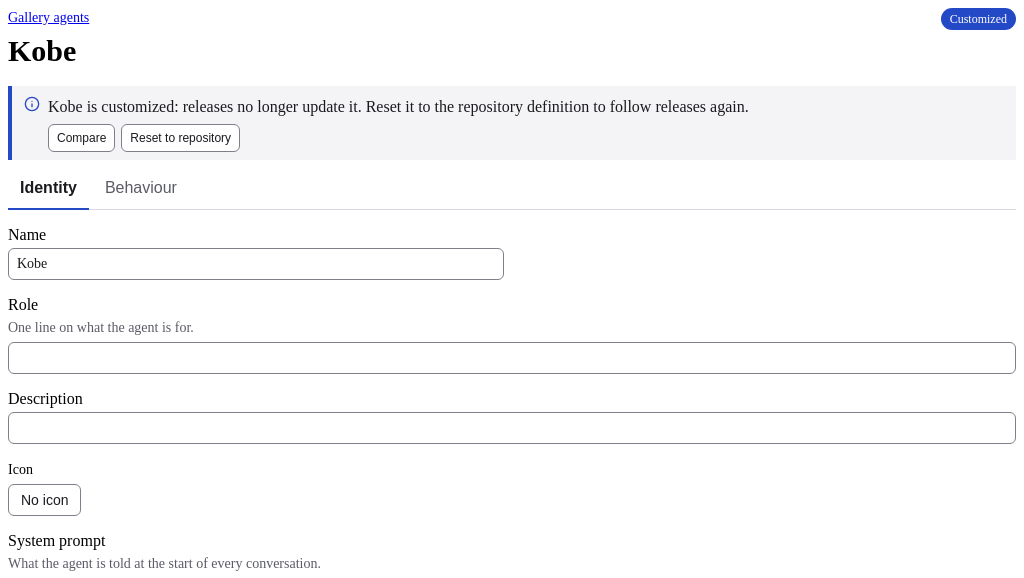
Test: gallery agent editor › resets a customized agent to the repository after asking
This screenshot has width=1024, height=578.
Click the button named "Reset to repository (Kobe)" at (181, 138), box [121, 124, 240, 152]
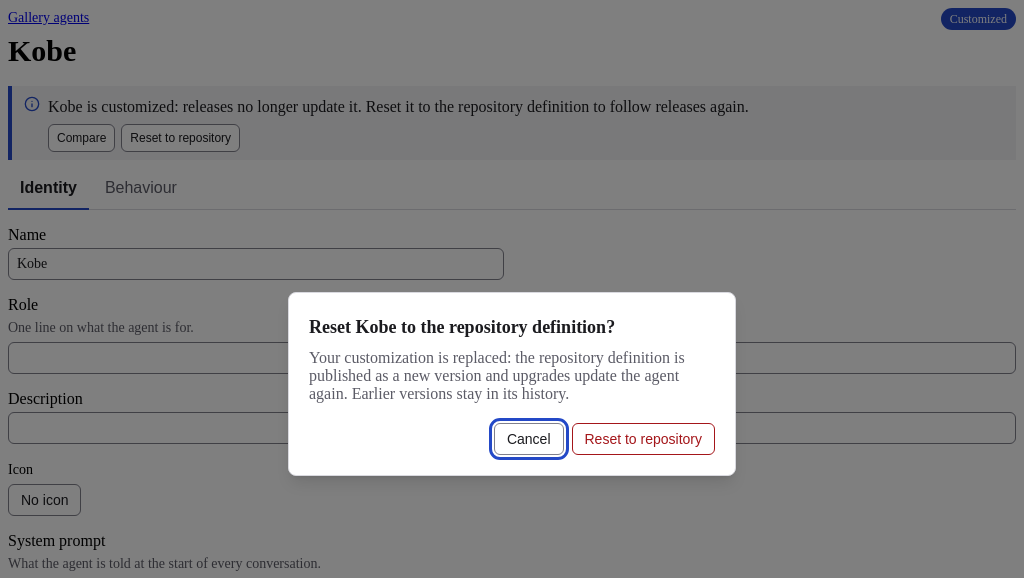
Click the button "Reset to repository" at (643, 439), box [572, 423, 715, 455]
(page scrolled)
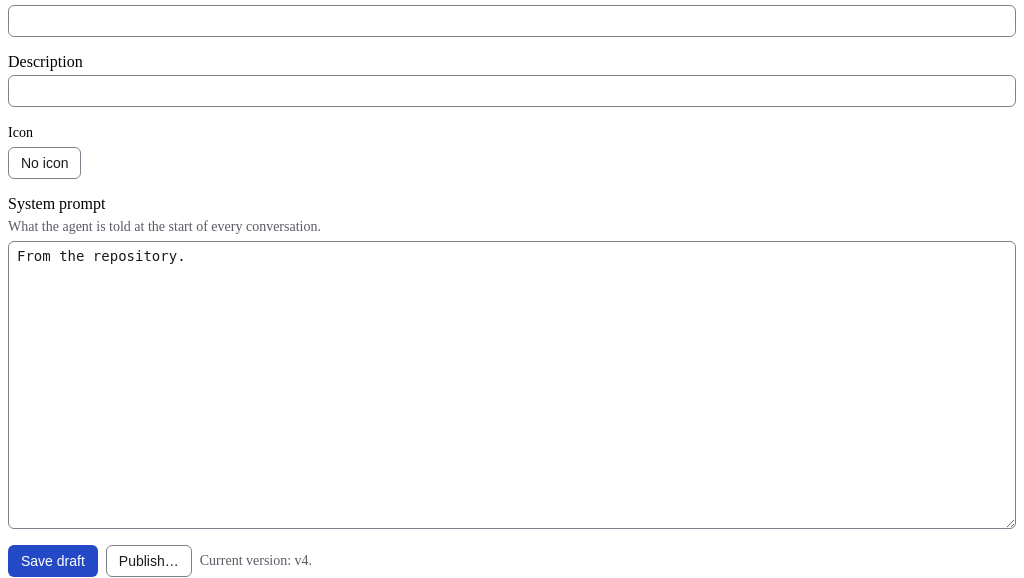
Expected: the text "Customized" is not shown
Now the text box labelled "System prompt" holds "From the repository.", box [8, 240, 1016, 528]
